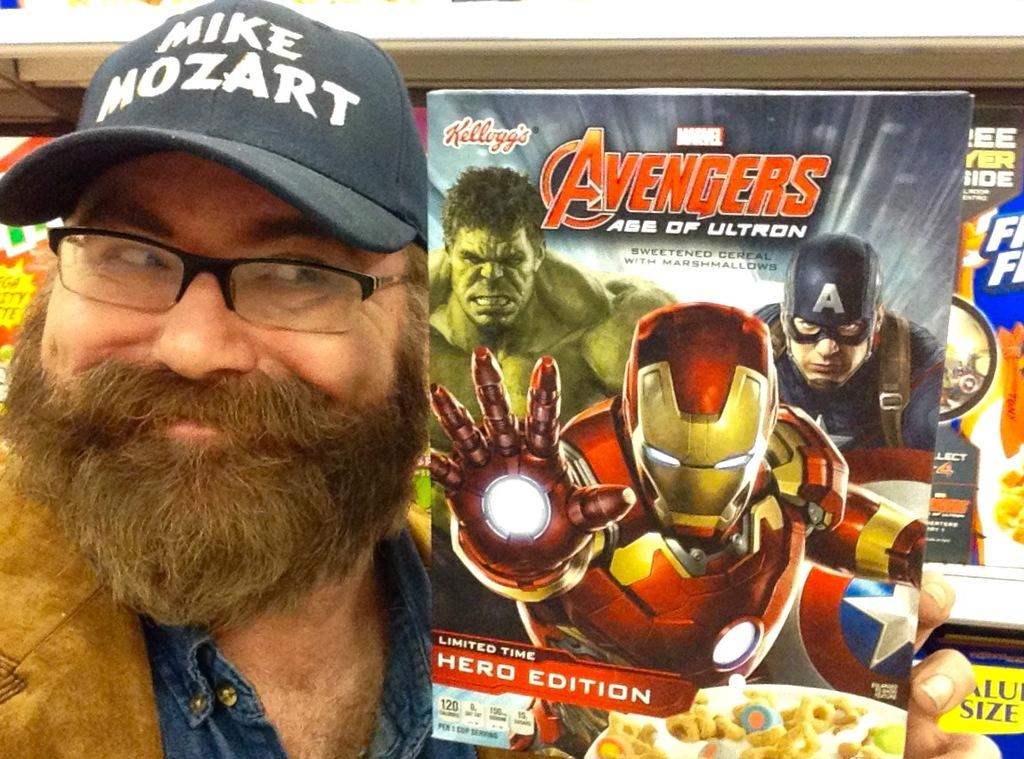Hat: (0, 0, 429, 247)
